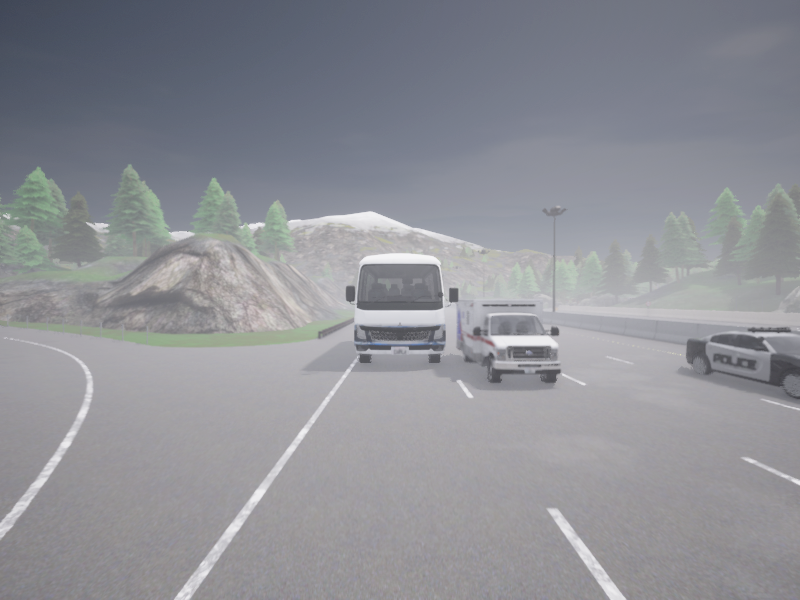vehicle: (346, 254, 457, 363), (456, 299, 560, 383), (685, 327, 799, 398)
